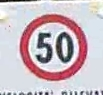limite 50: (17, 12, 88, 82)
